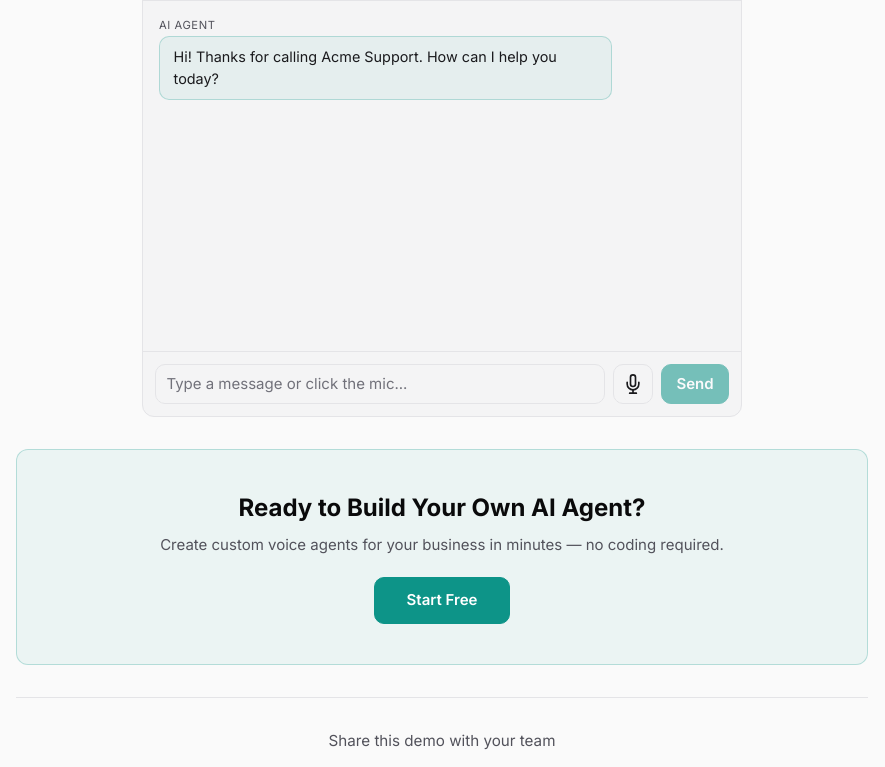
Test: Demo page › sends a message via text input
(page scrolled)
Type "I need help" into the field with placeholder "Type a message or click the mic...".
click(380, 384); type("I need help")  # box [155,364,605,404]
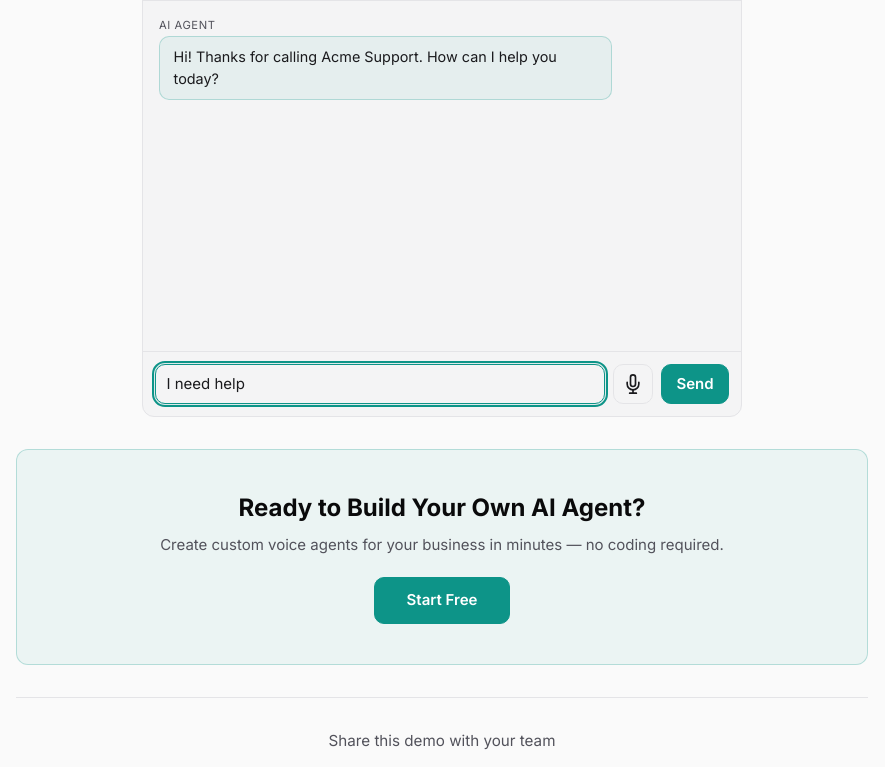
Click the button "Send".
click(695, 384)  # box [661,364,729,404]
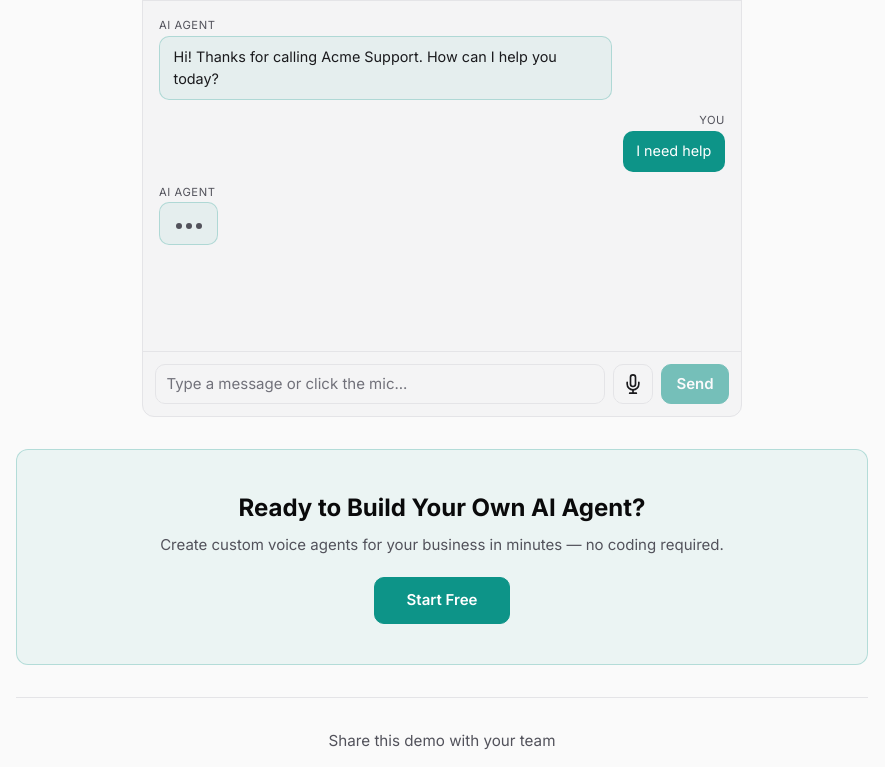
Now the text "I need help" is shown, box [623,131,725,172]
